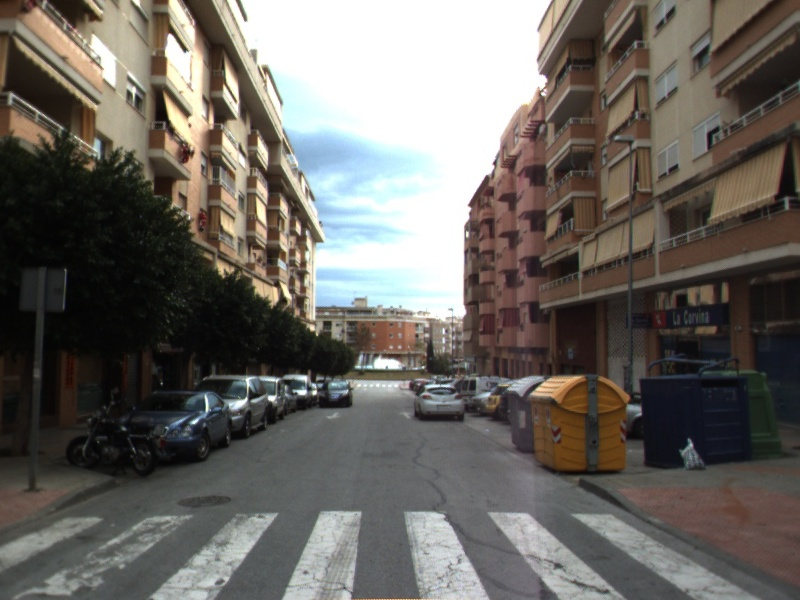STRAIGHT: (398, 409, 415, 420)
